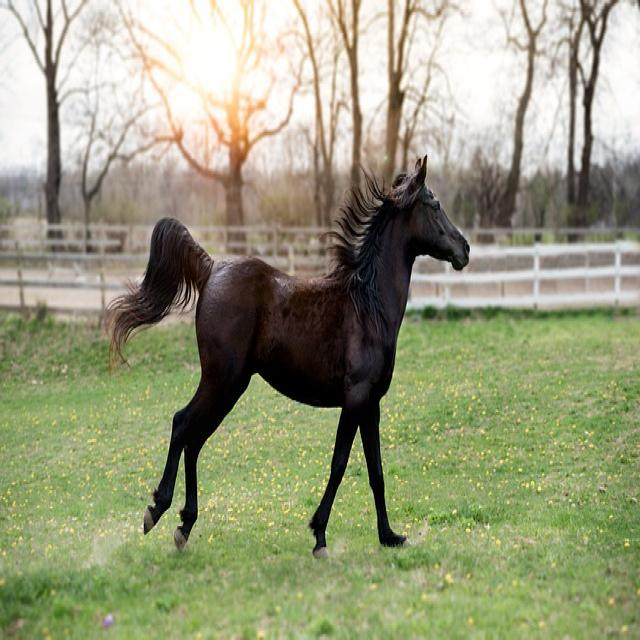Herbivorous: (109, 159, 472, 558)
